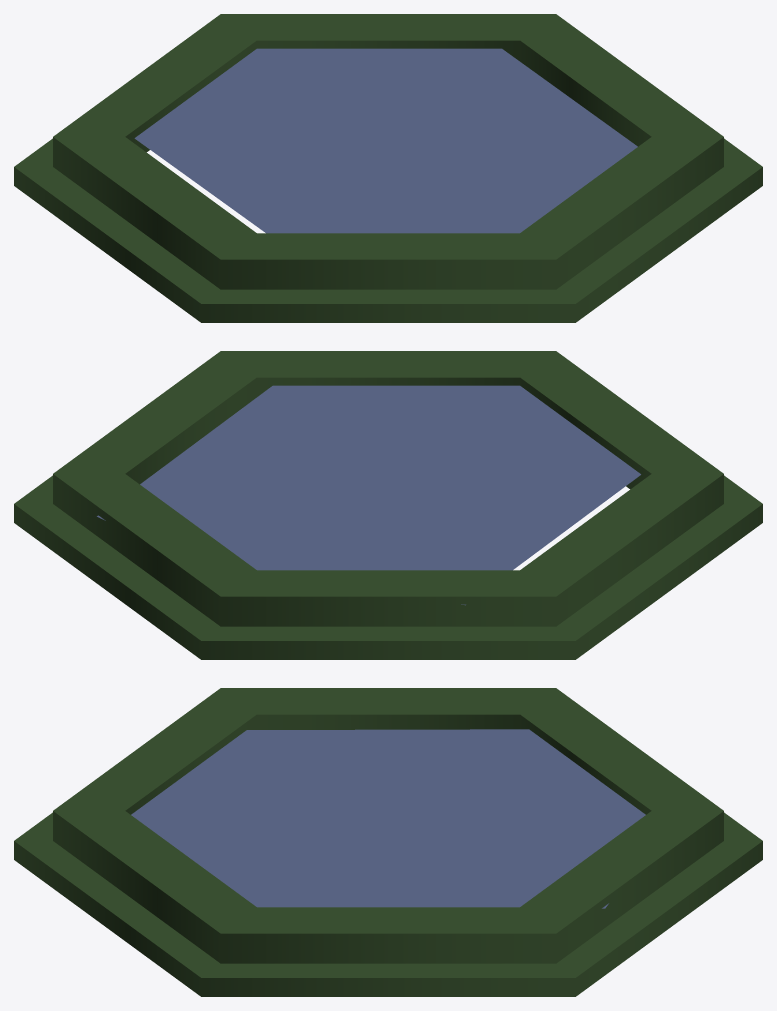
File: teleportBase - Copia.FBX
3 views of the same model, one above another, from view 1: azimuth 30°, elevation 25°; view 2: azimuth 150°, elevation 25°; view 3: azimuth 270°, elevation 25° (orthographic).
Parts seen in each view (by area): view 1: Teleport; view 2: Teleport; view 3: Teleport.
Part boxes in pixels (x1=…): Teleport: x1=14, y1=14, x2=762, y2=322; Teleport: x1=14, y1=351, x2=762, y2=659; Teleport: x1=14, y1=688, x2=762, y2=996.
Size of what is drawn, in the model's own units: 19.56 by 22.59 by 1.63.
